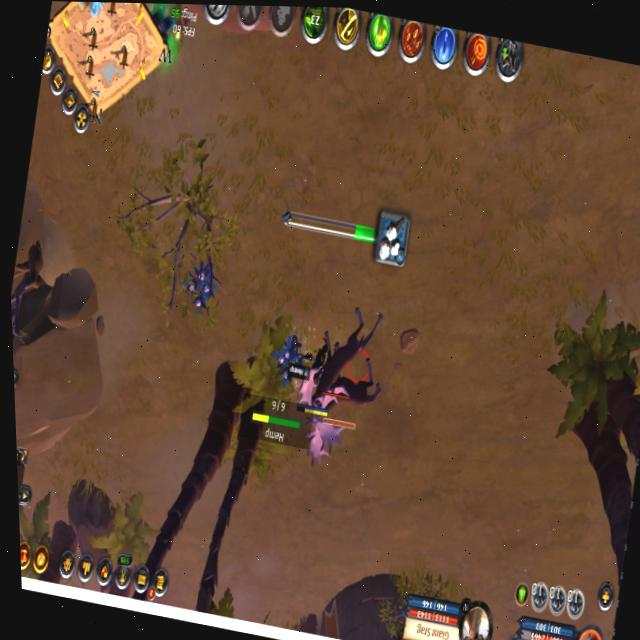hide: (180, 251, 224, 320), (267, 327, 308, 387)
ore: (293, 348, 405, 483), (286, 287, 391, 426)
red: (291, 326, 343, 420)
